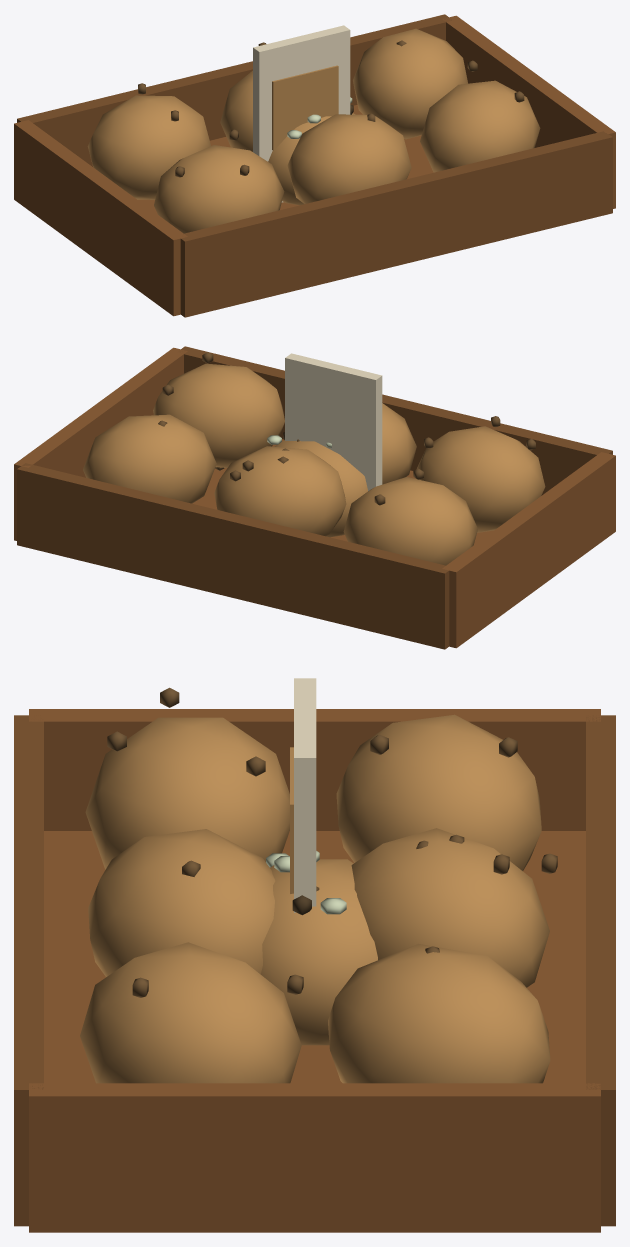
The model's file is Veg_Potato.fbx.
The picture shows the model from 3 angles, top to bottom: view 1: azimuth 30°, elevation 25°; view 2: azimuth 150°, elevation 25°; view 3: azimuth 270°, elevation 25°; orthographic projection. The views are drawn at different scales.
Parts seen in each view (by area): view 1: Veg_Potato__Stack, Veg_Potato__Seed, Veg_Potato; view 2: Veg_Potato__Stack, Veg_Potato__Seed, Veg_Potato; view 3: Veg_Potato__Stack, Veg_Potato, Veg_Potato__Seed, Veg_Potato__Rotten.
Part boxes in pixels (bbox=[...]): Veg_Potato__Stack: bbox=[14, 14, 615, 317]; Veg_Potato__Seed: bbox=[253, 25, 350, 202]; Veg_Potato: bbox=[252, 113, 355, 205]; Veg_Potato__Stack: bbox=[14, 346, 615, 649]; Veg_Potato__Seed: bbox=[285, 353, 382, 490]; Veg_Potato: bbox=[274, 439, 367, 537]; Veg_Potato__Stack: bbox=[14, 687, 615, 1232]; Veg_Potato: bbox=[260, 859, 377, 1045]; Veg_Potato__Seed: bbox=[290, 678, 316, 912]; Veg_Potato__Rotten: bbox=[266, 851, 346, 915].
Bounding box in the file's own units: 0.2435 × 0.09 × 0.16.
